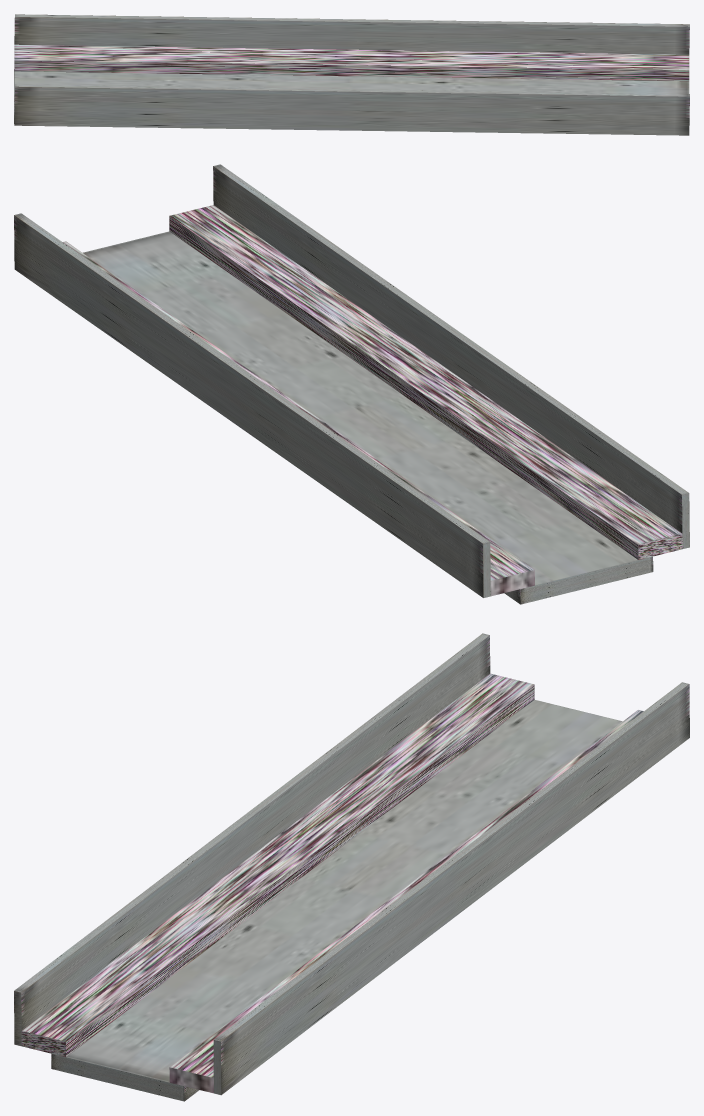
File: GMLID_BUI100628_817_8083.gltf
3 views of the same model, one above another, from view 1: azimuth 30°, elevation 25°; view 2: azimuth 150°, elevation 25°; view 3: azimuth 270°, elevation 25° (orthographic). The views are drawn at different scales.
Parts seen in each view (by area): view 1: Z_UP; view 2: Z_UP; view 3: Z_UP.
Part boxes in pixels (x1,y1,x2,y2): Z_UP: [14, 14, 689, 135]; Z_UP: [14, 164, 689, 604]; Z_UP: [14, 633, 689, 1101].
Bounding box in the file's own units: 32.81 × 3.25 × 23.77.
1 material, 1 textured.
